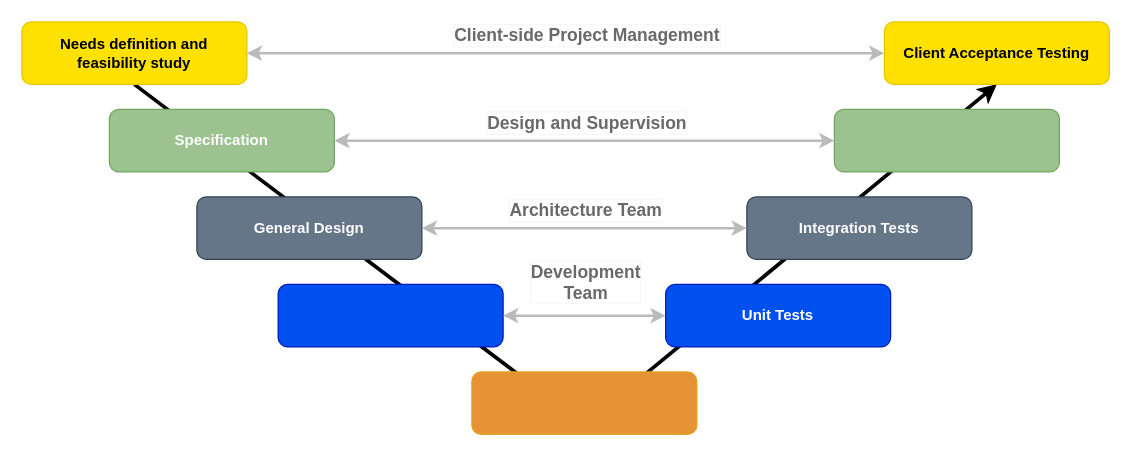
This 1131x458 diagram has some shape labels left out. The shapes that lost their labels are listed below. From the top down, each one's box as (x1, y1, x2, y2) in pixels, then its label:
(833, 108, 1059, 172): Validation
(277, 283, 503, 347): Detailed Design
(471, 371, 697, 434): Implementation
